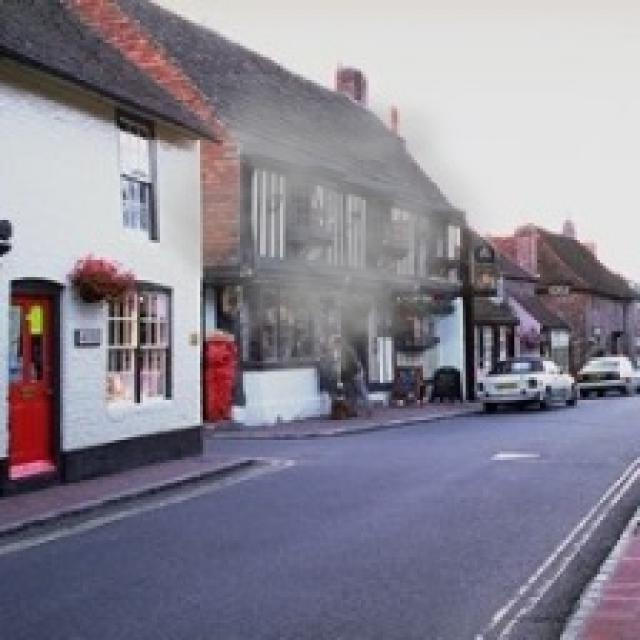smoke: (134, 74, 509, 417)
